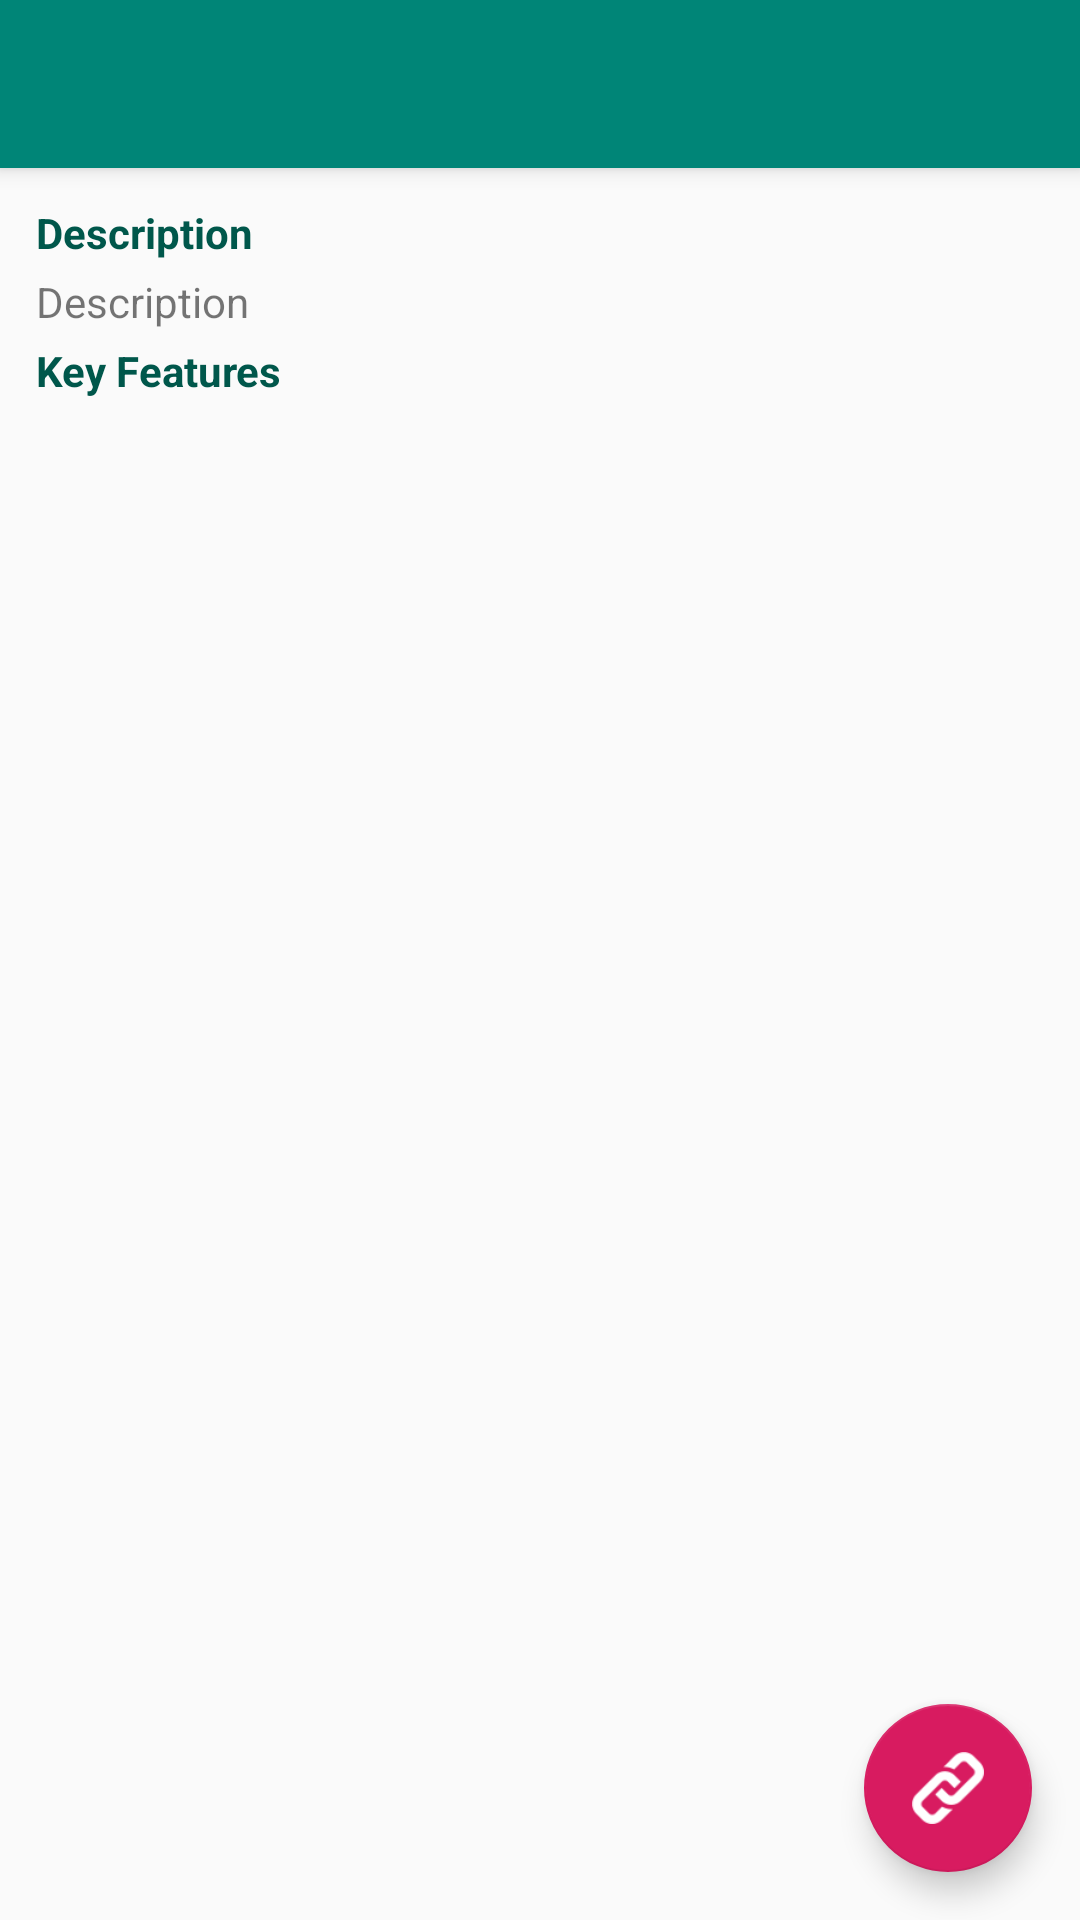

Screen size 1080px x 1920px. Icon name, then its box in pixels as (x1, y1, x2, y2):
link: (864, 1704, 1032, 1872)
